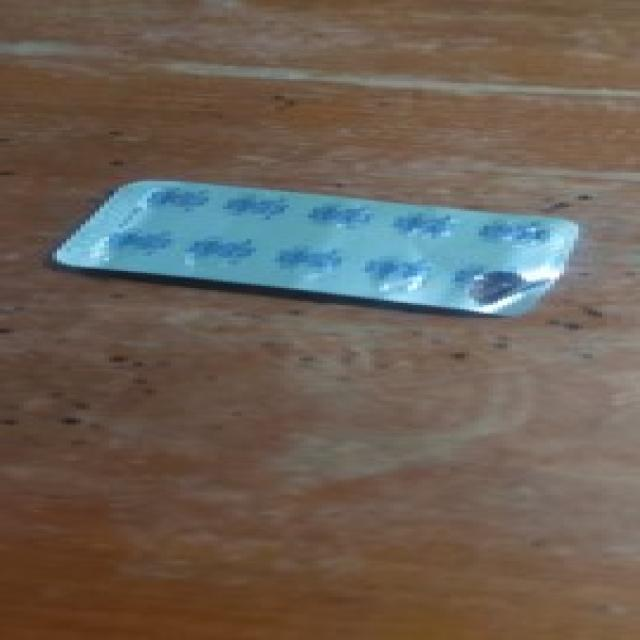Cacat: (50, 184, 583, 321)
Kemasan: (462, 267, 538, 308)
